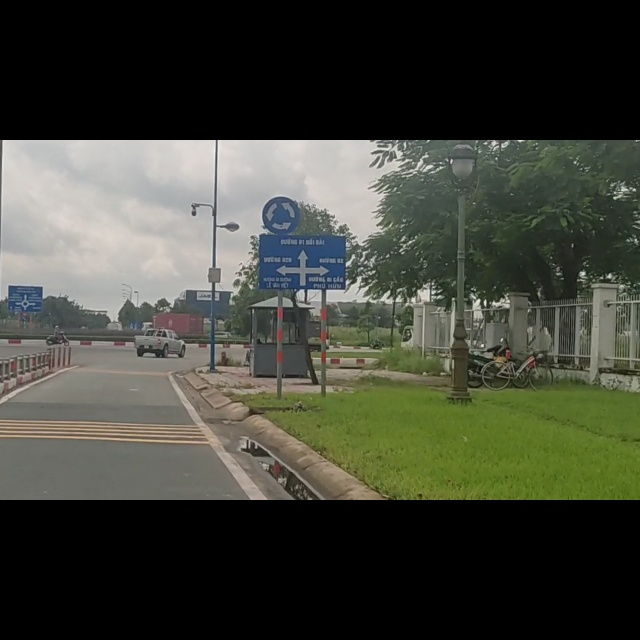bien_hieu_lenh: (259, 95, 301, 171)
